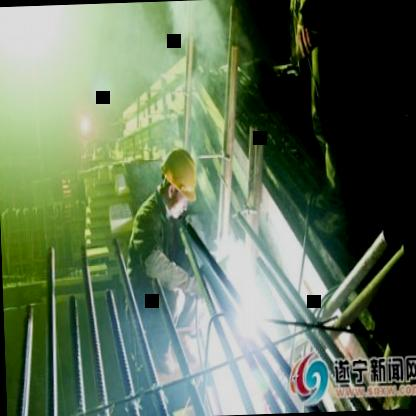helmet: (158, 138, 204, 210)
